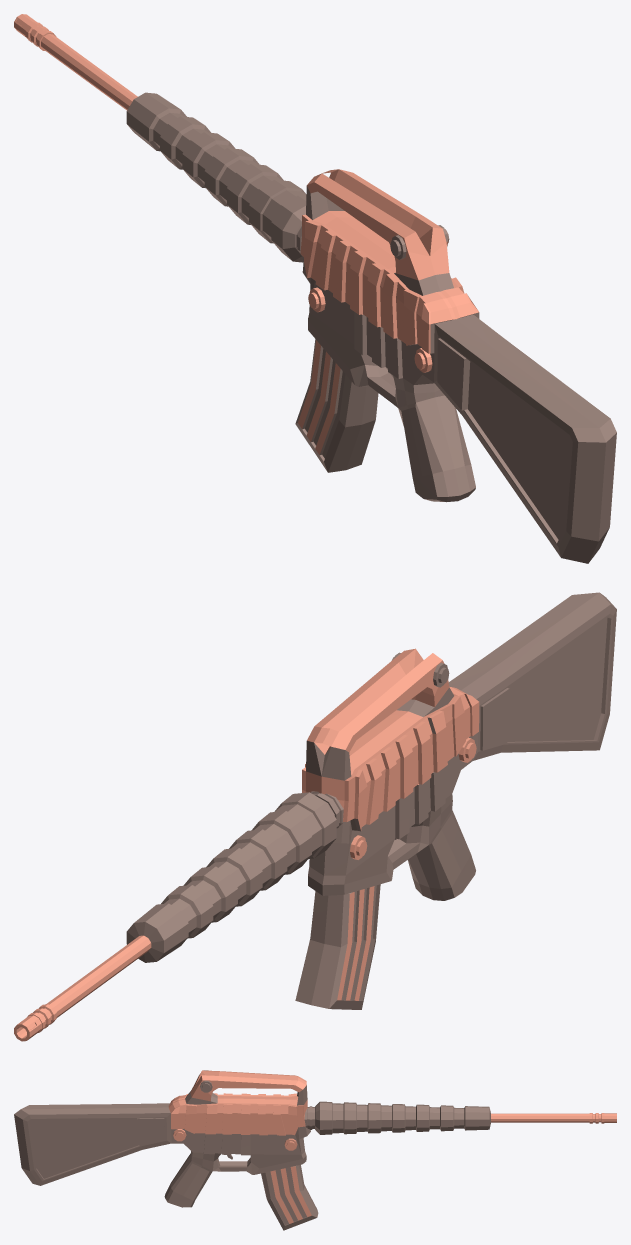
Rendered from Assoult_5.fbx.
3 views of the same model, one above another, from view 1: azimuth 30°, elevation 25°; view 2: azimuth 150°, elevation 25°; view 3: azimuth 270°, elevation 25° (orthographic). The views are drawn at different scales.
Parts seen in each view (by area): view 1: Weapon1; view 2: Weapon1; view 3: Weapon1.
Part boxes in pixels (x1,y1,x2,y2): Weapon1: (14,14,616,563); Weapon1: (14,592,616,1041); Weapon1: (14,1070,616,1230).
Bounding box in the file's own units: 46.06 × 241 × 859.
